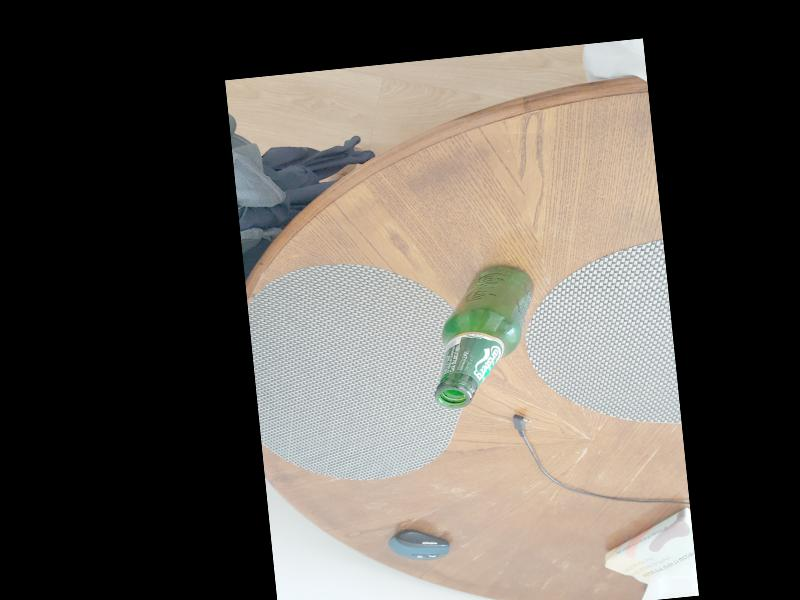Beer: (420, 258, 550, 410)
